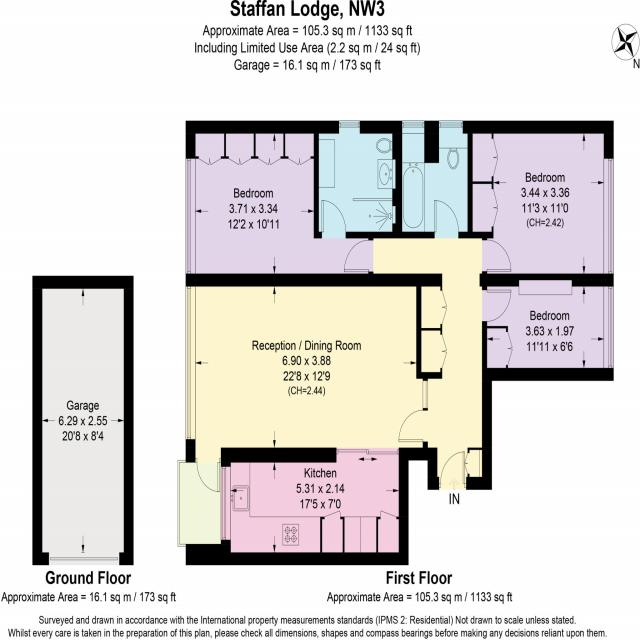DOOR: (480, 287, 513, 325), (320, 197, 347, 240), (480, 238, 513, 273), (433, 198, 460, 240), (342, 239, 375, 273), (398, 409, 429, 444), (439, 450, 466, 490), (196, 455, 220, 495)
ROOM: (184, 271, 428, 494), (184, 118, 377, 289), (466, 120, 615, 290), (220, 446, 409, 566), (478, 273, 614, 383)
WINDOW: (183, 283, 198, 441), (184, 155, 198, 276), (602, 158, 615, 274), (602, 286, 615, 367), (219, 464, 232, 542), (421, 379, 429, 410), (438, 120, 464, 129), (401, 119, 425, 128), (338, 120, 361, 129)
